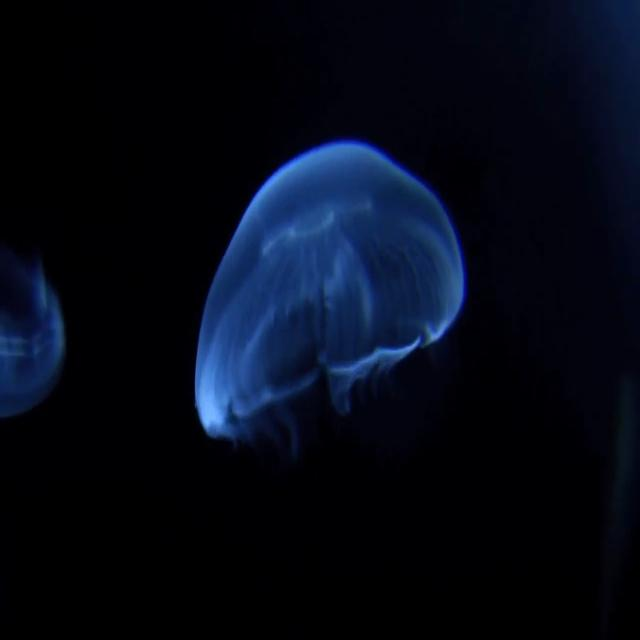Moon-jellyfish: (193, 140, 468, 484)
